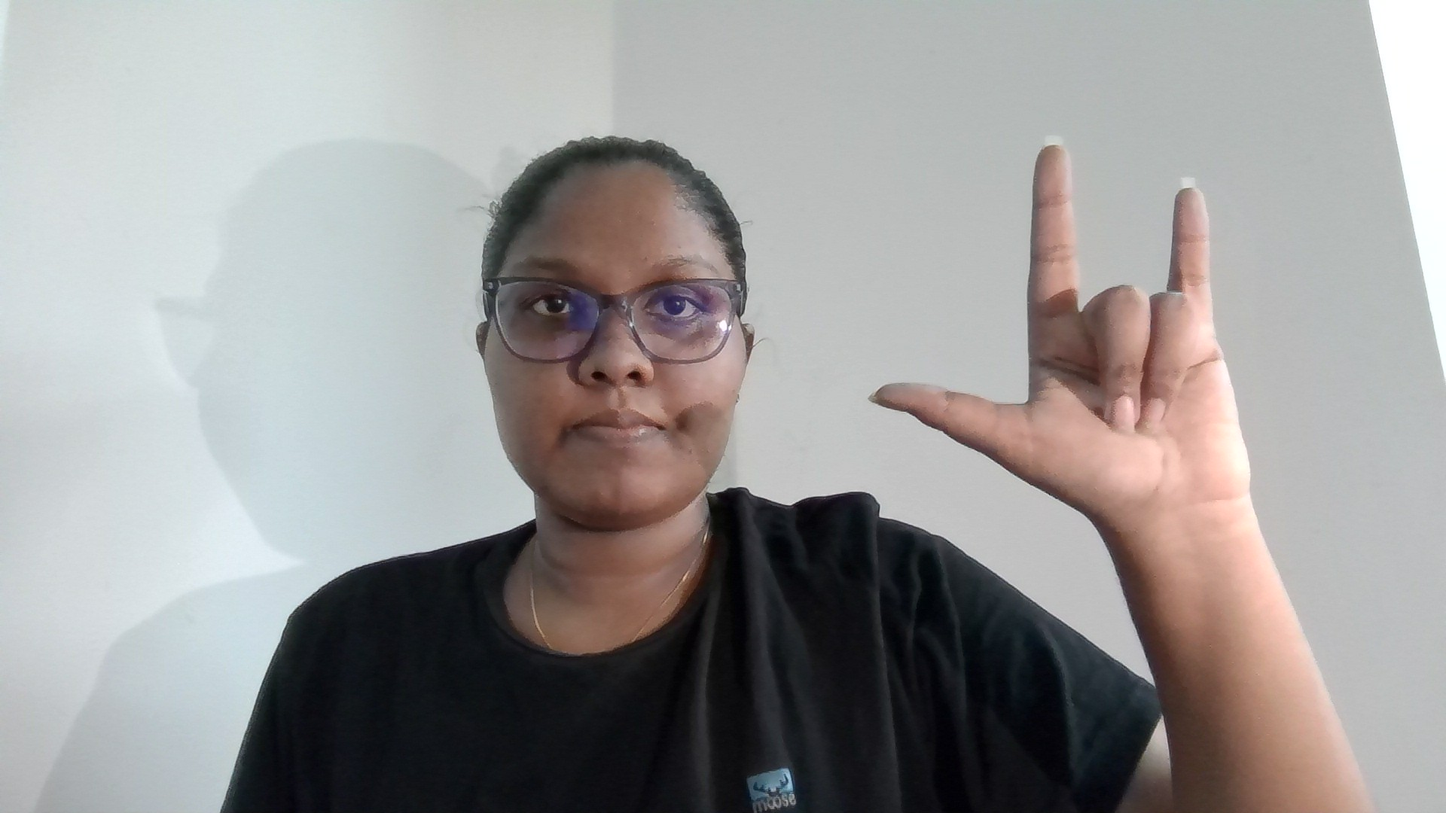I Love You: (853, 117, 1249, 538)
